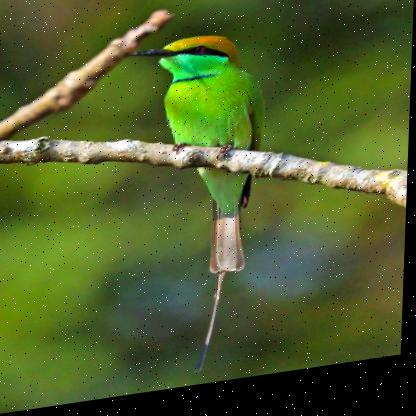Burung: (122, 33, 271, 388)
